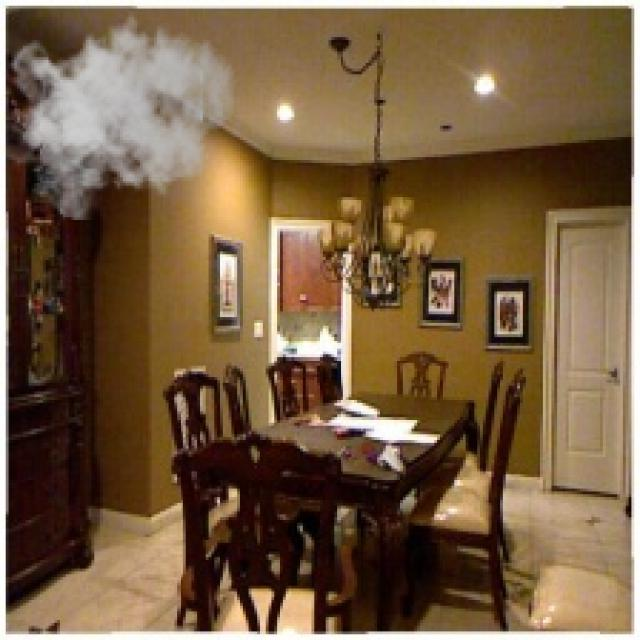smoke: (6, 3, 237, 220)
